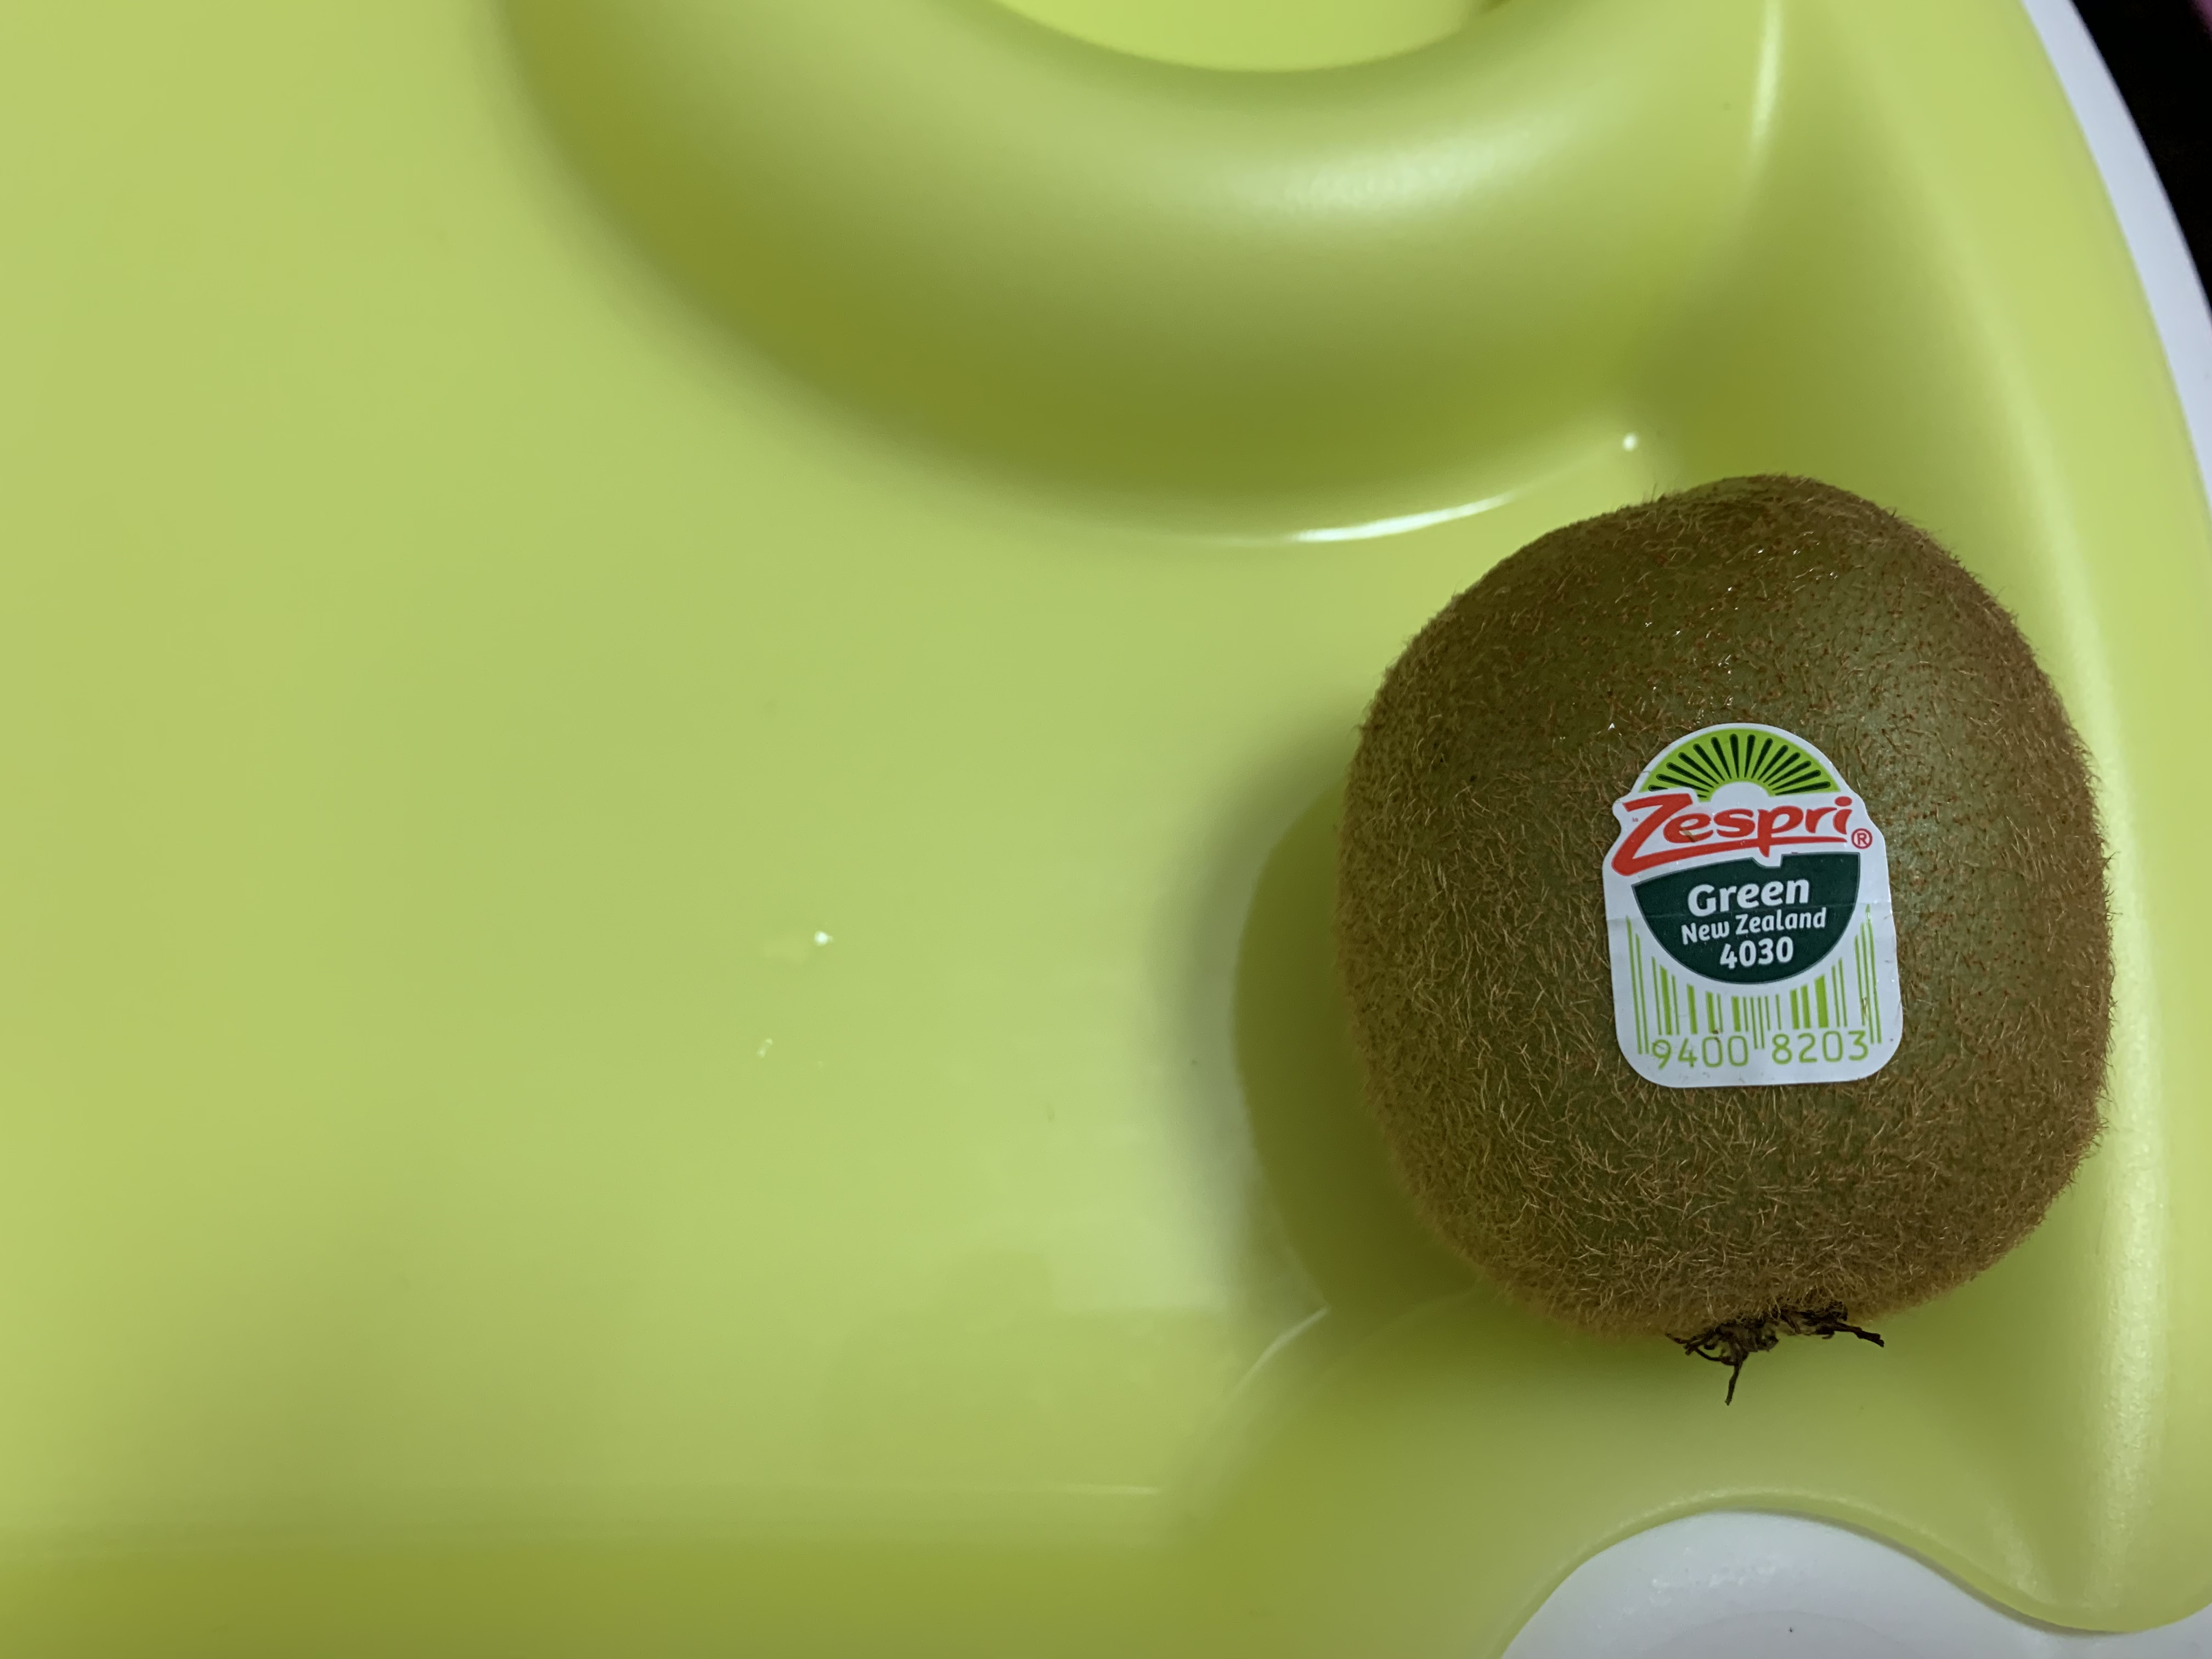kiwi: (1332, 474, 2116, 1342)
